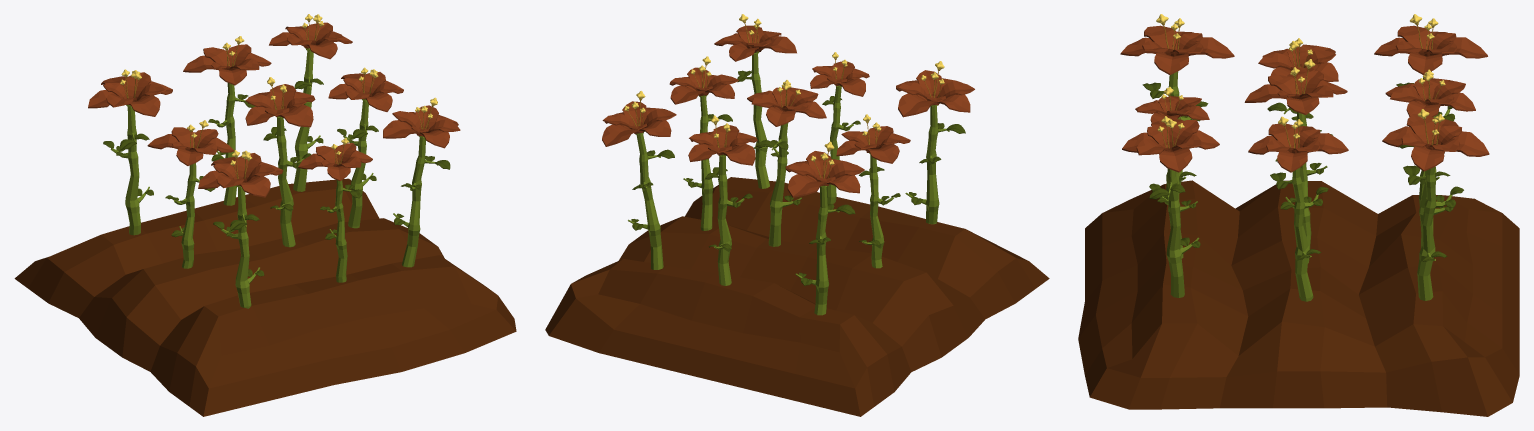
The model's file is PlotWCrops.fbx.
3 views of the same model, side by side, from view 1: azimuth 30°, elevation 25°; view 2: azimuth 150°, elevation 25°; view 3: azimuth 270°, elevation 25° (orthographic). The views are drawn at different scales.
Parts seen in each view (by area): view 1: Plot; view 2: Plot; view 3: Plot.
Part boxes in pixels (box(x1,y1,x2,y2)): Plot: box(14, 14, 516, 416); Plot: box(545, 14, 1049, 416); Plot: box(1078, 14, 1519, 416).
Size of the model in its own units: 304 by 206 by 306.
